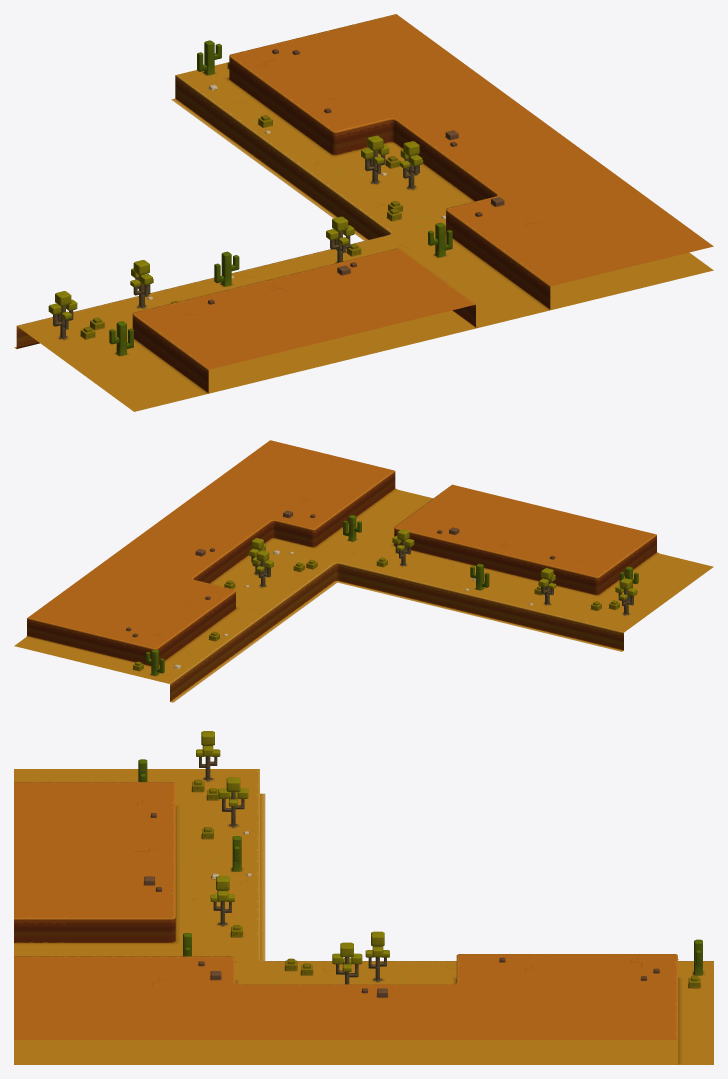
The model's file is C_mountain1_out_LU.fbx.
The picture shows the model from 3 angles, top to bottom: view 1: azimuth 30°, elevation 25°; view 2: azimuth 150°, elevation 25°; view 3: azimuth 270°, elevation 25°; orthographic projection. The views are drawn at different scales.
Visible parts, largest first — view 1: C_mountain1_out_LU; view 2: C_mountain1_out_LU; view 3: C_mountain1_out_LU.
Part boxes in pixels (x1,y1,x2,y2): C_mountain1_out_LU: (14, 14, 713, 411); C_mountain1_out_LU: (14, 440, 713, 702); C_mountain1_out_LU: (14, 731, 713, 1064).
Bounding box in the file's own units: 117 × 13.14 × 117.
